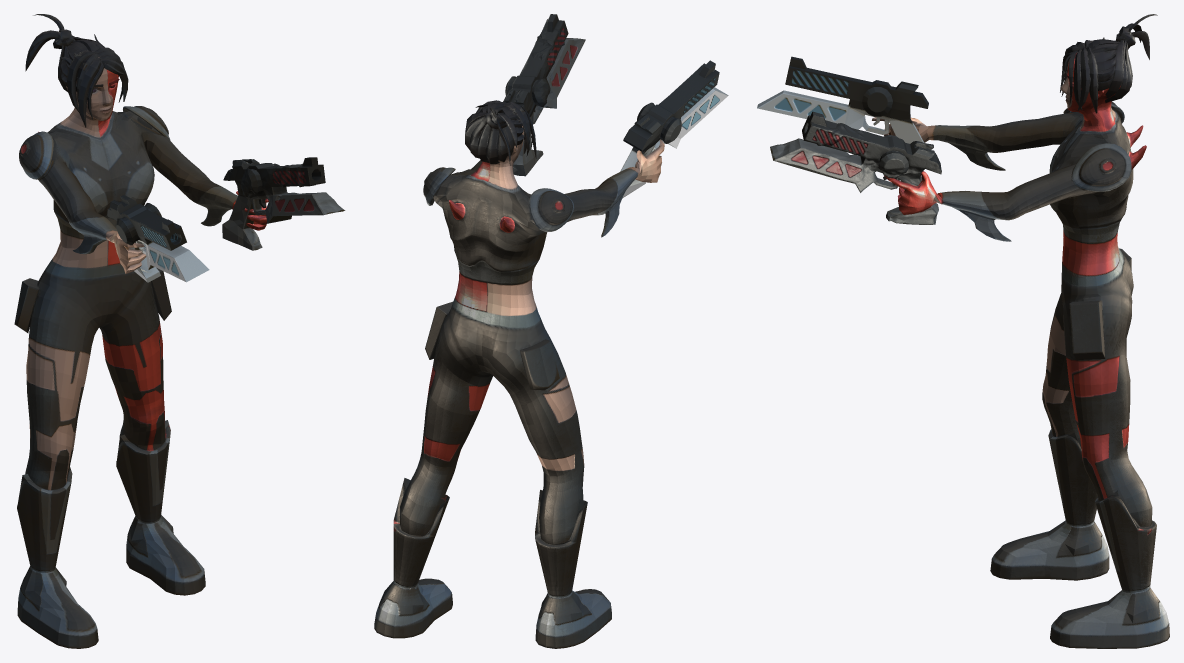
3 renders of one model, left to right at view 1: azimuth 30°, elevation 25°; view 2: azimuth 150°, elevation 25°; view 3: azimuth 270°, elevation 25°, orthographic. The views are drawn at different scales.
Visible parts, largest first — view 1: Dex_LOW_Plane.001; view 2: Dex_LOW_Plane.001; view 3: Dex_LOW_Plane.001.
Part boxes in pixels (bbox=[...]): Dex_LOW_Plane.001: bbox=[14, 14, 345, 648]; Dex_LOW_Plane.001: bbox=[374, 14, 728, 648]; Dex_LOW_Plane.001: bbox=[757, 14, 1169, 648].
Bounding box in the file's own units: 1.63 × 4.79 × 3.12.
